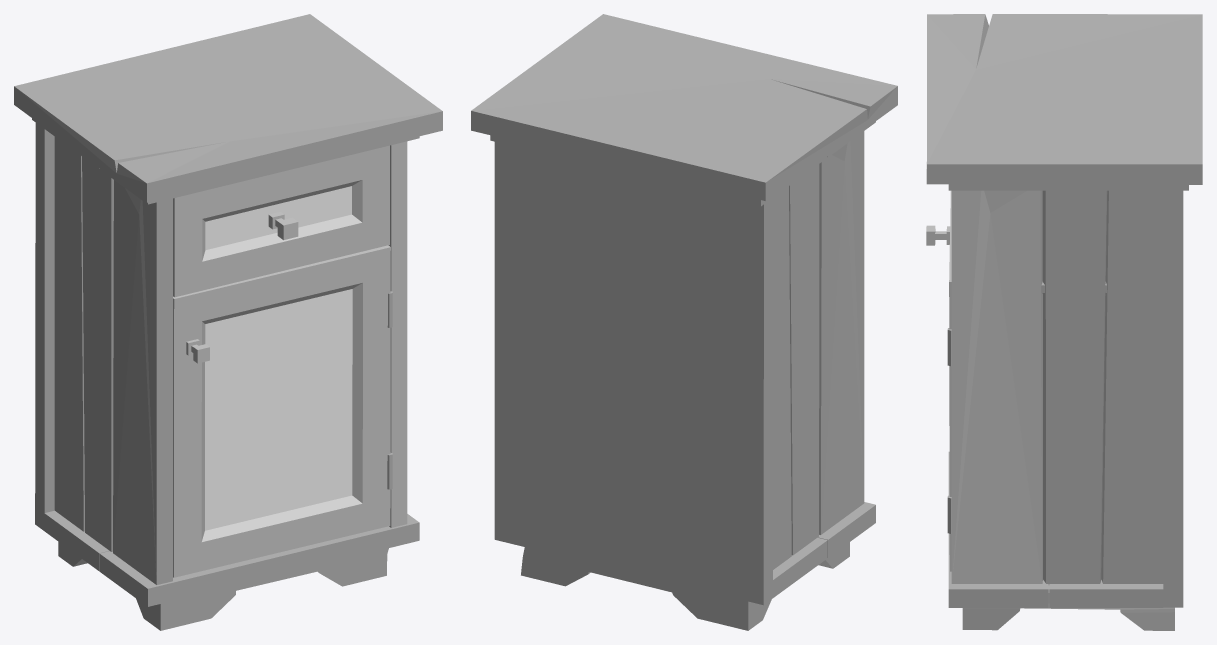
The model's file is PT_Cabinet_04.fbx.
3 renders of one model, left to right at view 1: azimuth 30°, elevation 25°; view 2: azimuth 150°, elevation 25°; view 3: azimuth 270°, elevation 25°, orthographic. The views are drawn at different scales.
Visible parts, largest first — view 1: PT_Cabinet_01_body, PT_Cabinet_01_left_door, PT_Cabinet_01_left_drawer; view 2: PT_Cabinet_01_body; view 3: PT_Cabinet_01_body, PT_Cabinet_01_left_door.
Part boxes in pixels (<box>): PT_Cabinet_01_body: <box>14,14,442,630</box>; PT_Cabinet_01_left_door: <box>173,245,392,577</box>; PT_Cabinet_01_left_drawer: <box>173,145,389,297</box>; PT_Cabinet_01_body: <box>471,14,897,630</box>; PT_Cabinet_01_body: <box>927,14,1202,630</box>; PT_Cabinet_01_left_door: <box>926,190,951,571</box>.
Bounding box in the file's own units: 78.33 × 118 × 60.87.
Materials: 1 (1 with a texture image).
